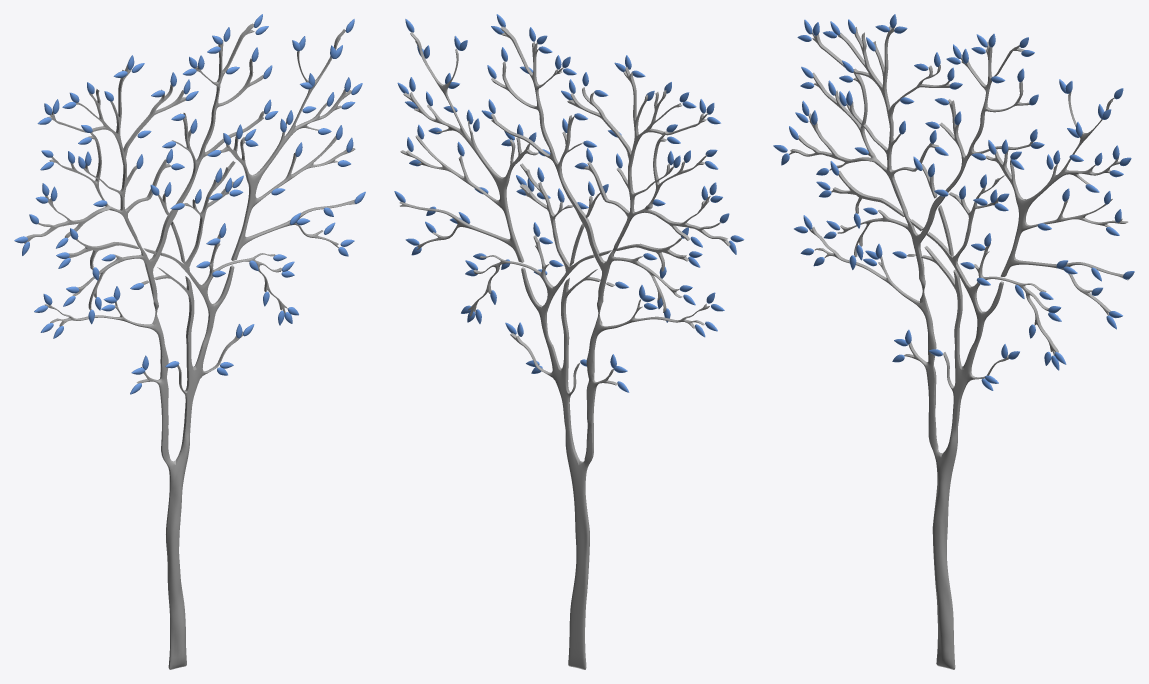
File: goodTree7_withleaves.fbx
The picture shows the model from 3 angles, left to right: view 1: azimuth 30°, elevation 25°; view 2: azimuth 150°, elevation 25°; view 3: azimuth 330°, elevation 25°; orthographic projection. The views are drawn at different scales.
Visible parts, largest first — view 1: goodtree7; view 2: goodtree7; view 3: goodtree7.
Boxes of the visible parts, left/top/right/bottom form: goodtree7: left=14, top=14, right=365, bottom=669; goodtree7: left=394, top=14, right=744, bottom=669; goodtree7: left=773, top=14, right=1134, bottom=669.
Bounding box in the file's own units: 29.41 × 50.82 × 0.8378.
